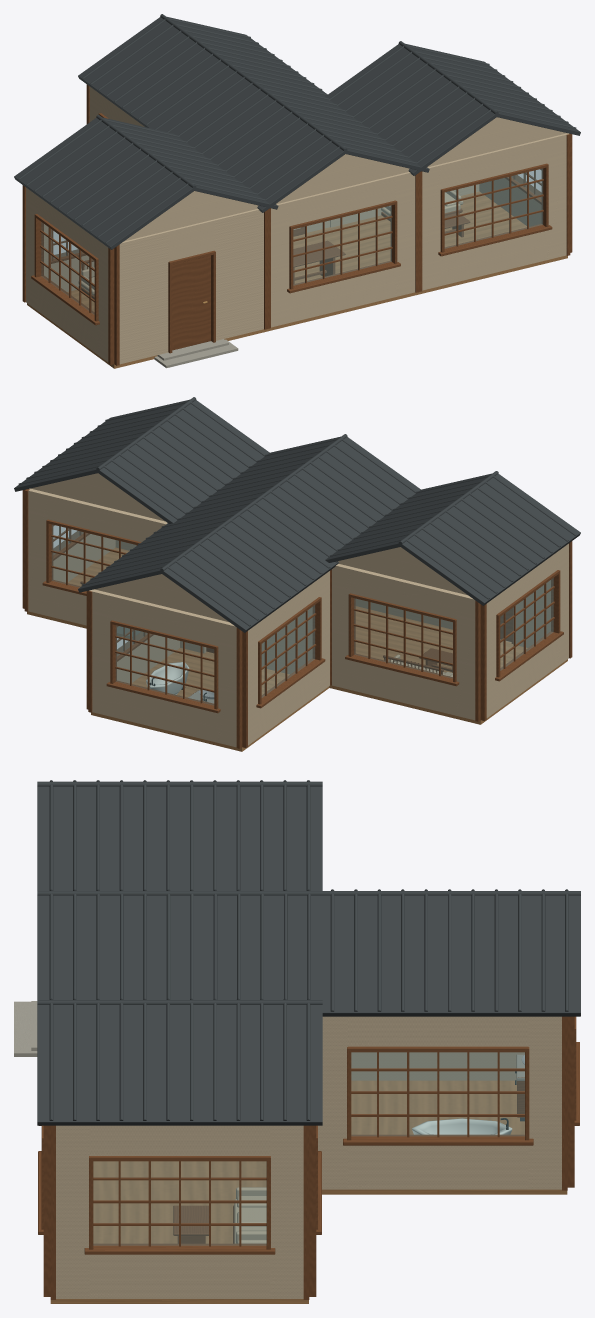
Rendered from bld-minka-ed4db469ecf2.glb.
3 views of the same model, one above another, from view 1: azimuth 30°, elevation 25°; view 2: azimuth 150°, elevation 25°; view 3: azimuth 270°, elevation 25° (orthographic). The views are drawn at different scales.
Visible parts, largest first — view 1: surface_graphite, surface_linen, surface_walnut, surface_Optical_smoke, surface_oak, surface_stone; view 2: surface_graphite, surface_linen, surface_walnut, surface_Optical_smoke, surface_oak, surface_porcelain; view 3: surface_graphite, surface_linen, surface_Optical_smoke, surface_walnut, surface_oak, surface_stone, surface_porcelain.
Part boxes in pixels (x1=…): surface_graphite: x1=14, y1=14, x2=580, y2=249; surface_linen: x1=26, y1=87, x2=568, y2=364; surface_walnut: x1=22, y1=84, x2=572, y2=365; surface_Optical_smoke: x1=41, y1=168, x2=542, y2=314; surface_oak: x1=27, y1=191, x2=567, y2=368; surface_stone: x1=154, y1=339, x2=238, y2=368; surface_graphite: x1=14, y1=397, x2=580, y2=632; surface_linen: x1=28, y1=473, x2=568, y2=747; surface_walnut: x1=22, y1=489, x2=572, y2=748; surface_Optical_smoke: x1=52, y1=524, x2=553, y2=705; surface_oak: x1=27, y1=547, x2=567, y2=751; surface_porcelain: x1=146, y1=662, x2=189, y2=694; surface_graphite: x1=37, y1=780, x2=580, y2=1125; surface_linen: x1=56, y1=1016, x2=561, y2=1298; surface_Optical_smoke: x1=93, y1=1052, x2=524, y2=1245; surface_walnut: x1=38, y1=1016, x2=579, y2=1299; surface_oak: x1=50, y1=1080, x2=567, y2=1303; surface_stone: x1=14, y1=1001, x2=524, y2=1080; surface_porcelain: x1=412, y1=1118, x2=511, y2=1134.
Size of the model in its own units: 12.45 by 4.25 by 8.78.
11 materials, 4 textured.
